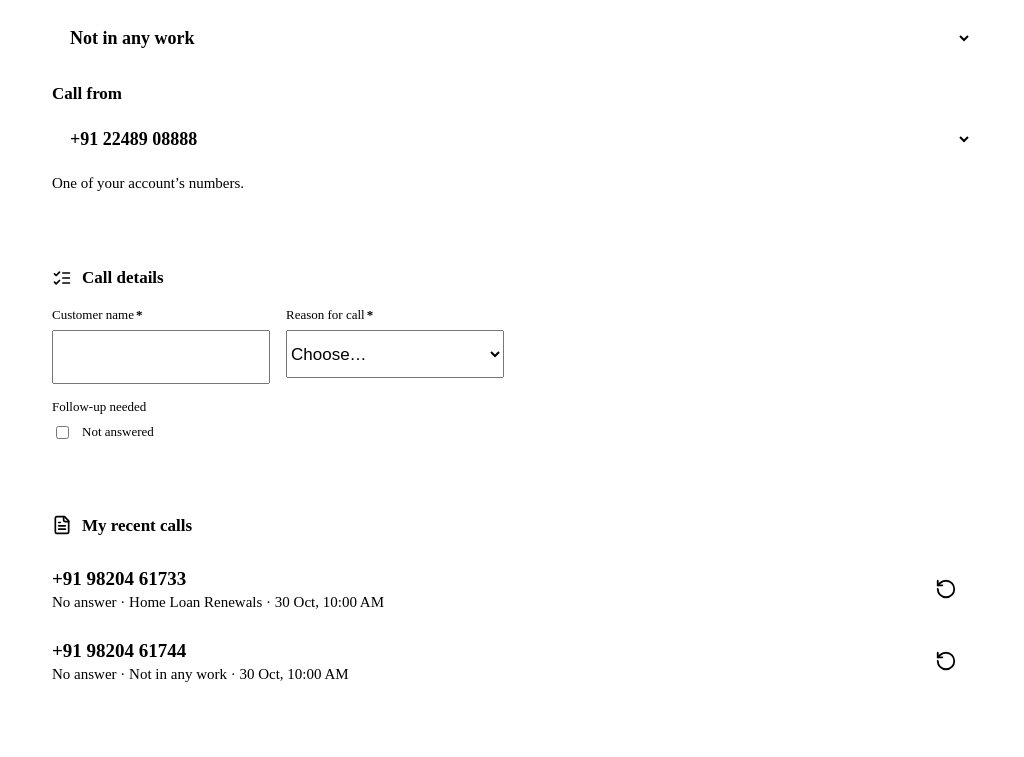
Ready › Call from on a tagged call (DN4) › a redial goes out from the number it went from, tagged or untagged
The width and height of the screenshot is (1024, 757).
(page scrolled)
What coordinates should you click on to do the following:
click the button named "Put +91 98204 61733 in"
I would click on:
 (946, 589)
Its box is 920,563 -> 972,615.
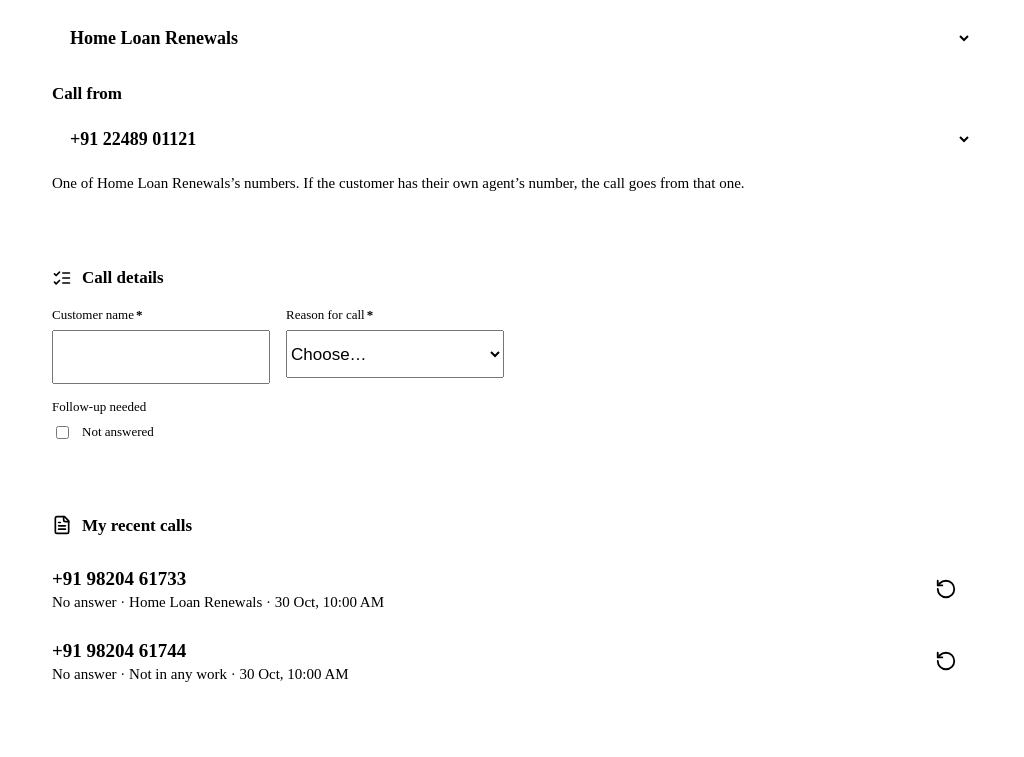
Result: the dropdown with test id "log-to-select" shows "Home Loan Renewals" at 52,10 -> 972,66
Result: the dropdown with test id "caller-id" shows "+91 22489 01121" at 52,111 -> 972,167
What coordinates should you click on to do the following:
click the button named "Put +91 98204 61744 in"
I would click on:
 (946, 661)
Its box is 920,635 -> 972,687.
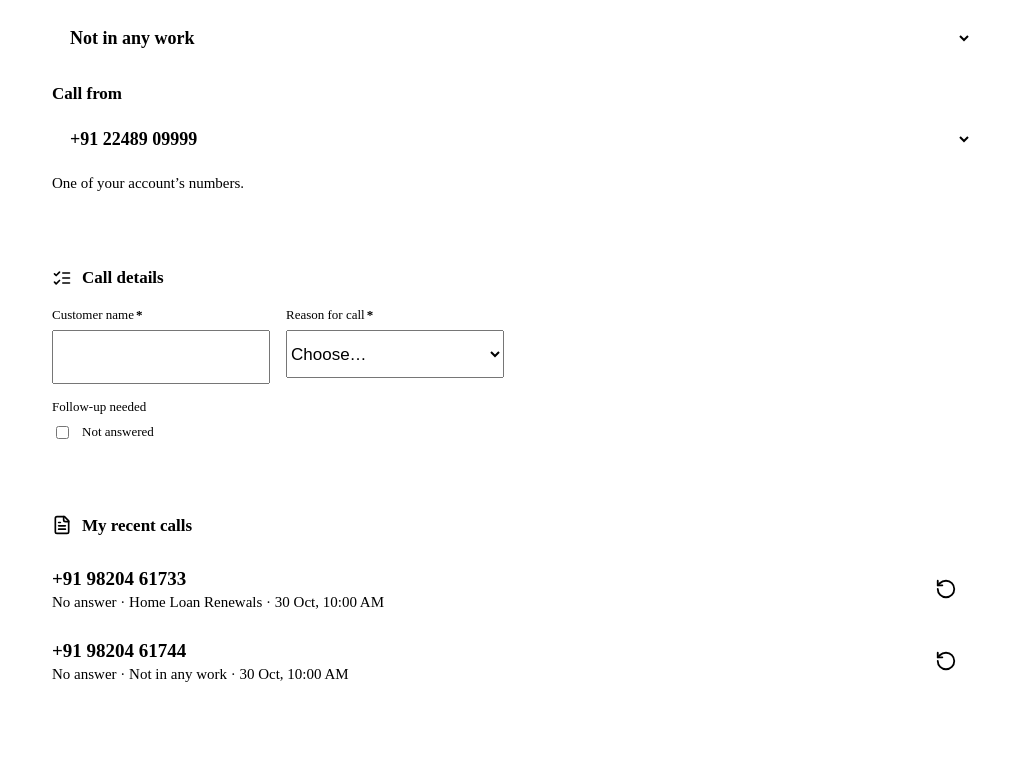
Result: the dropdown with test id "log-to-select" shows "Not in any work" at 52,10 -> 972,66
Result: the dropdown with test id "caller-id" shows "+91 22489 09999" at 52,111 -> 972,167
